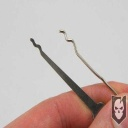Metal: (20, 14, 128, 120)
